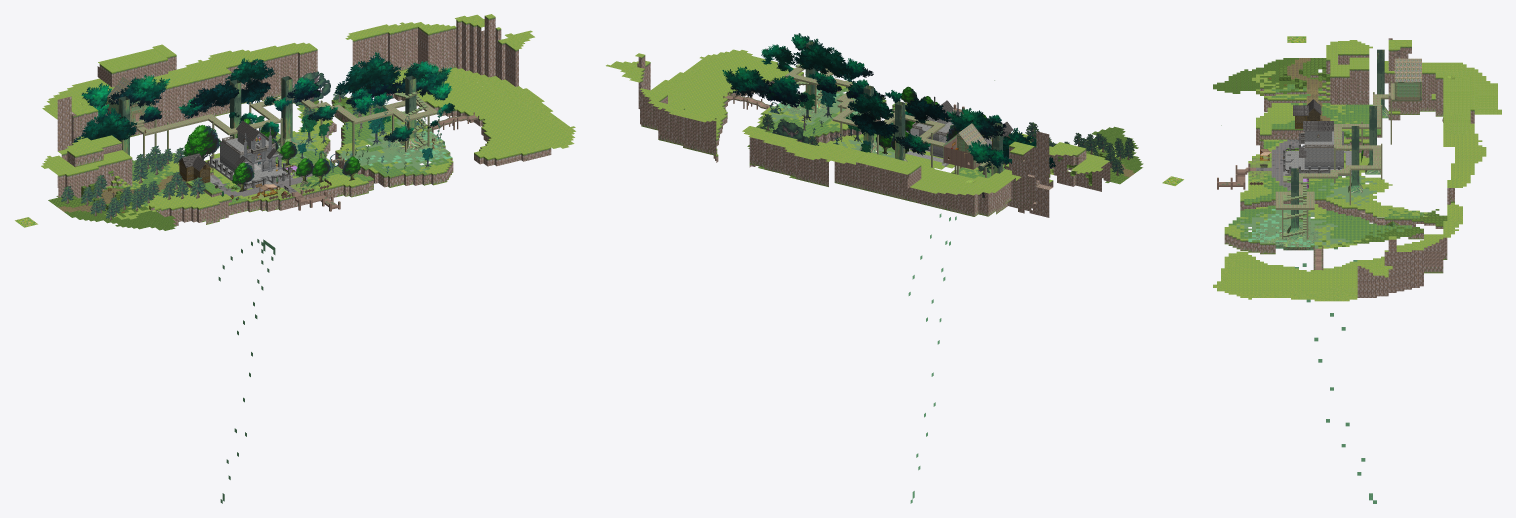
Rendered from Town18.obj.
3 views of the same model, side by side, from view 1: azimuth 30°, elevation 25°; view 2: azimuth 150°, elevation 25°; view 3: azimuth 270°, elevation 25° (orthographic). The views are drawn at different scales.
Parts seen in each view (by area): view 1: Default; view 2: Default; view 3: Default.
Boxes of the visible parts, x1,y1,x2,y2 form: Default: [15, 14, 575, 503]; Default: [606, 33, 1183, 503]; Default: [1213, 36, 1501, 503].
Size of the model in its own units: 318 by 241 by 148.
15 materials, 15 textured.
